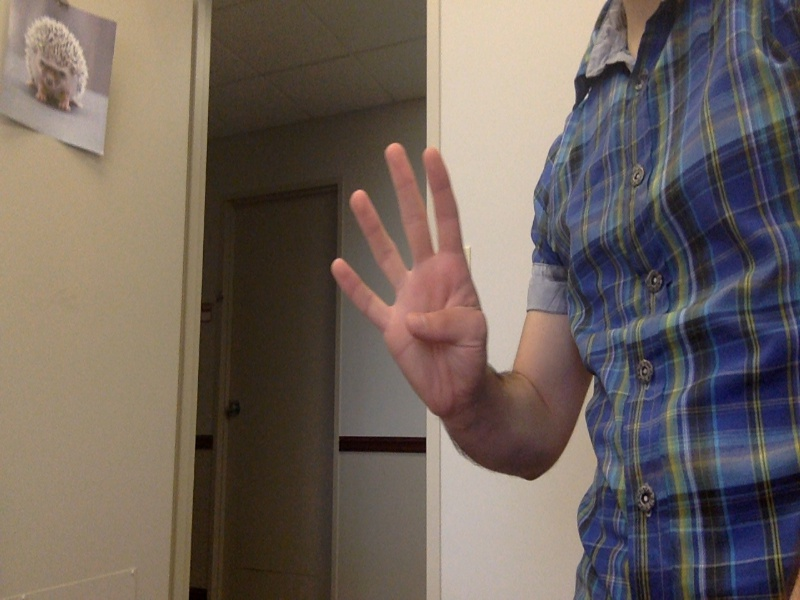4-hand: (330, 140, 489, 421)
